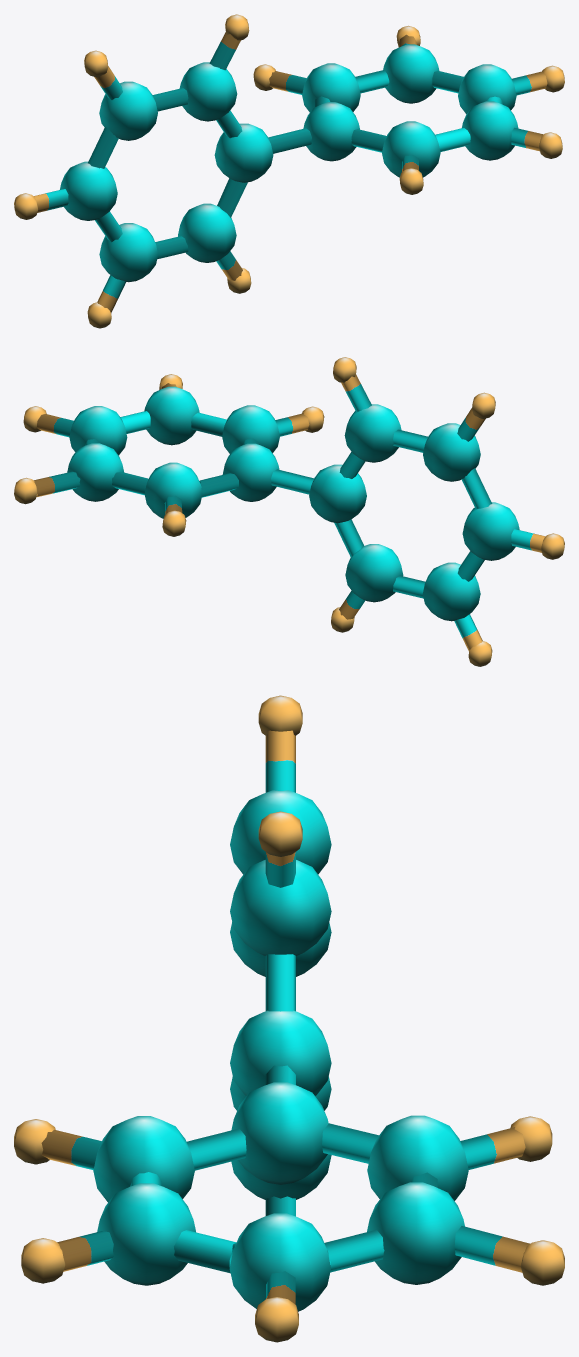
The model's file is Biphenyl_skew.dae.
The picture shows the model from 3 angles, top to bottom: view 1: azimuth 30°, elevation 25°; view 2: azimuth 150°, elevation 25°; view 3: azimuth 270°, elevation 25°; orthographic projection. The views are drawn at different scales.
Parts seen in each view (by area): view 1: polySurface505; view 2: polySurface505; view 3: polySurface505.
Part boxes in pixels (x1,y1,x2,y2): polySurface505: (14,14,564,328); polySurface505: (14,357,564,666); polySurface505: (14,695,564,1342).
Bounding box in the file's own units: 7.52 × 3.64 × 3.79.
Materials: 1 (1 with a texture image).
